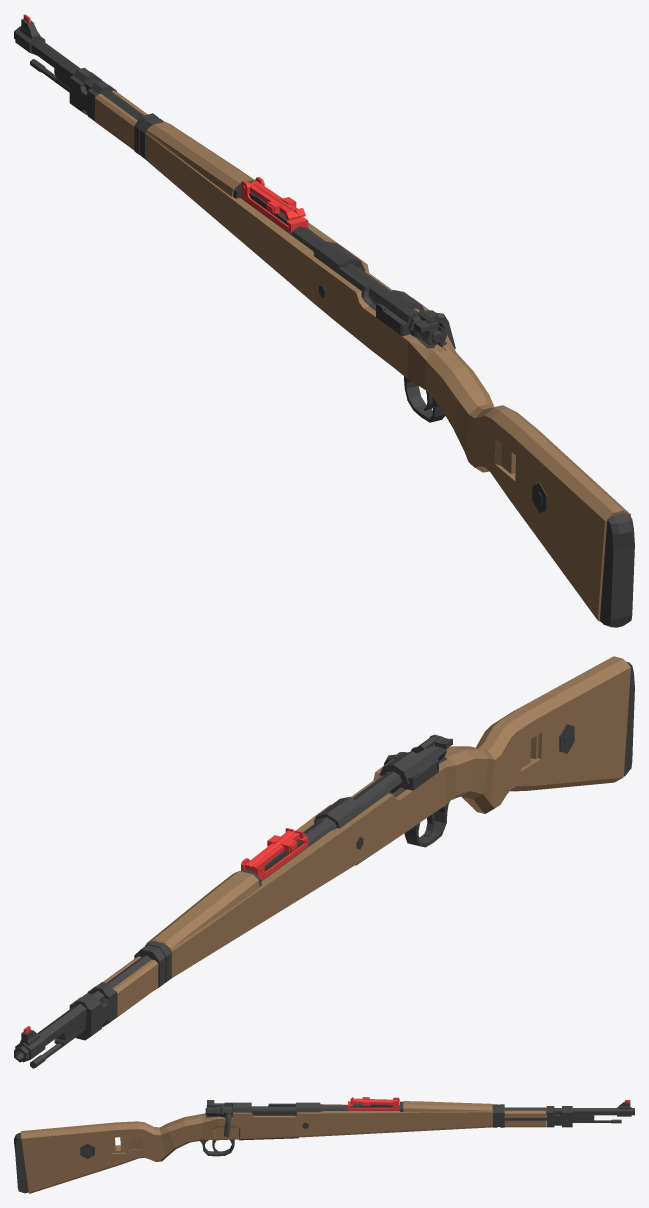
The model's file is sniper_0.glb.
The picture shows the model from 3 angles, top to bottom: view 1: azimuth 30°, elevation 25°; view 2: azimuth 150°, elevation 25°; view 3: azimuth 270°, elevation 25°; orthographic projection. The views are drawn at different scales.
Visible parts, largest first — view 1: p12_accent, p48_paint, p13_accent, p14_paint, p10_accent, p0_paint, p7_paint, p27_paint; view 2: p12_accent, p13_accent, p14_paint, p10_accent, p0_paint, p7_paint, p30_paint, p27_paint, p11_paint, p36_paint, p48_paint, p18_del; view 3: p12_accent, p13_accent, p10_accent, p14_paint, p48_paint, p0_paint, p7_paint, p27_paint, p11_paint, p16_del, p26_paint, p30_paint (+3 smaller).
Part boxes in pixels (left/top/right/bottom): p12_accent: left=145, top=132, right=630, bottom=622; p48_paint: left=600, top=513, right=634, bottom=627; p13_accent: left=146, top=122, right=255, bottom=196; p14_paint: left=240, top=196, right=375, bottom=310; p10_accent: left=95, top=90, right=147, bottom=149; p0_paint: left=14, top=26, right=143, bottom=120; p7_paint: left=69, top=67, right=116, bottom=121; p27_paint: left=345, top=264, right=446, bottom=346; p12_accent: left=145, top=656, right=630, bottom=978; p13_accent: left=146, top=871, right=259, bottom=951; p14_paint: left=261, top=785, right=405, bottom=881; p10_accent: left=103, top=956, right=158, bottom=1017; p0_paint: left=14, top=955, right=151, bottom=1062; p7_paint: left=69, top=982, right=116, bottom=1040; p30_paint: left=379, top=749, right=432, bottom=793; p27_paint: left=353, top=746, right=446, bottom=802; p11_paint: left=134, top=940, right=171, bottom=989; p36_paint: left=404, top=802, right=449, bottom=847; p48_paint: left=624, top=662, right=634, bottom=776; p18_del: left=245, top=830, right=299, bottom=871; p12_accent: left=21, top=1104, right=492, bottom=1193; p13_accent: left=403, top=1101, right=492, bottom=1112; p10_accent: left=504, top=1107, right=546, bottom=1127; p14_paint: left=268, top=1102, right=399, bottom=1114; p48_paint: left=14, top=1132, right=28, bottom=1193; p0_paint: left=504, top=1108, right=634, bottom=1115; p7_paint: left=546, top=1106, right=572, bottom=1127; p27_paint: left=206, top=1105, right=295, bottom=1116; p11_paint: left=492, top=1104, right=504, bottom=1127; p16_del: left=348, top=1097, right=399, bottom=1110; p26_paint: left=251, top=1110, right=295, bottom=1115; p30_paint: left=224, top=1102, right=251, bottom=1116.
Size of the model in its own units: 0.0603 by 0.1845 by 1.11.
